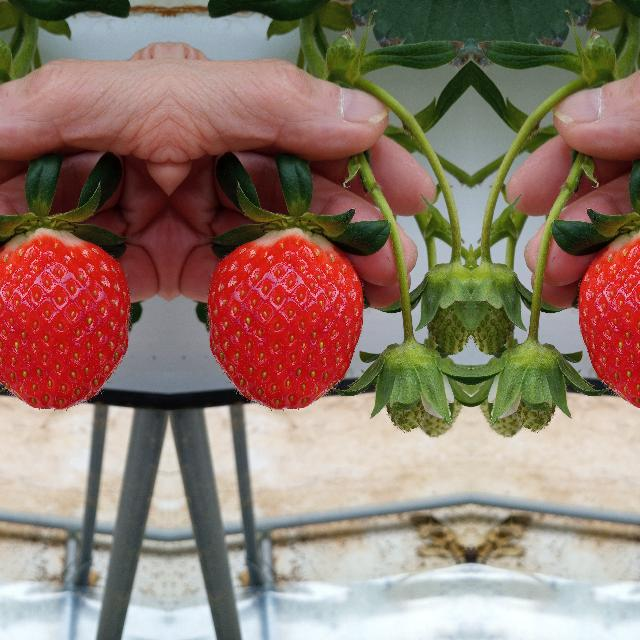Health_100: (203, 227, 364, 411), (0, 227, 132, 411), (576, 227, 640, 411)
